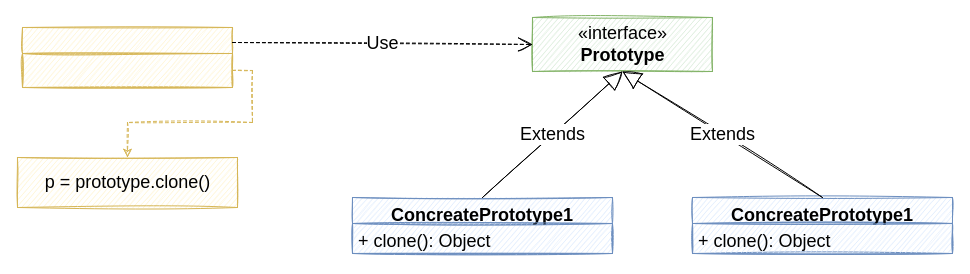
This 970x274 diagram has some shape labels left out. Here are the shapes that lost their labels. From the top down, the box of each, then its label:
(22, 26, 232, 88): Client
(22, 52, 232, 88): + operation(): void
